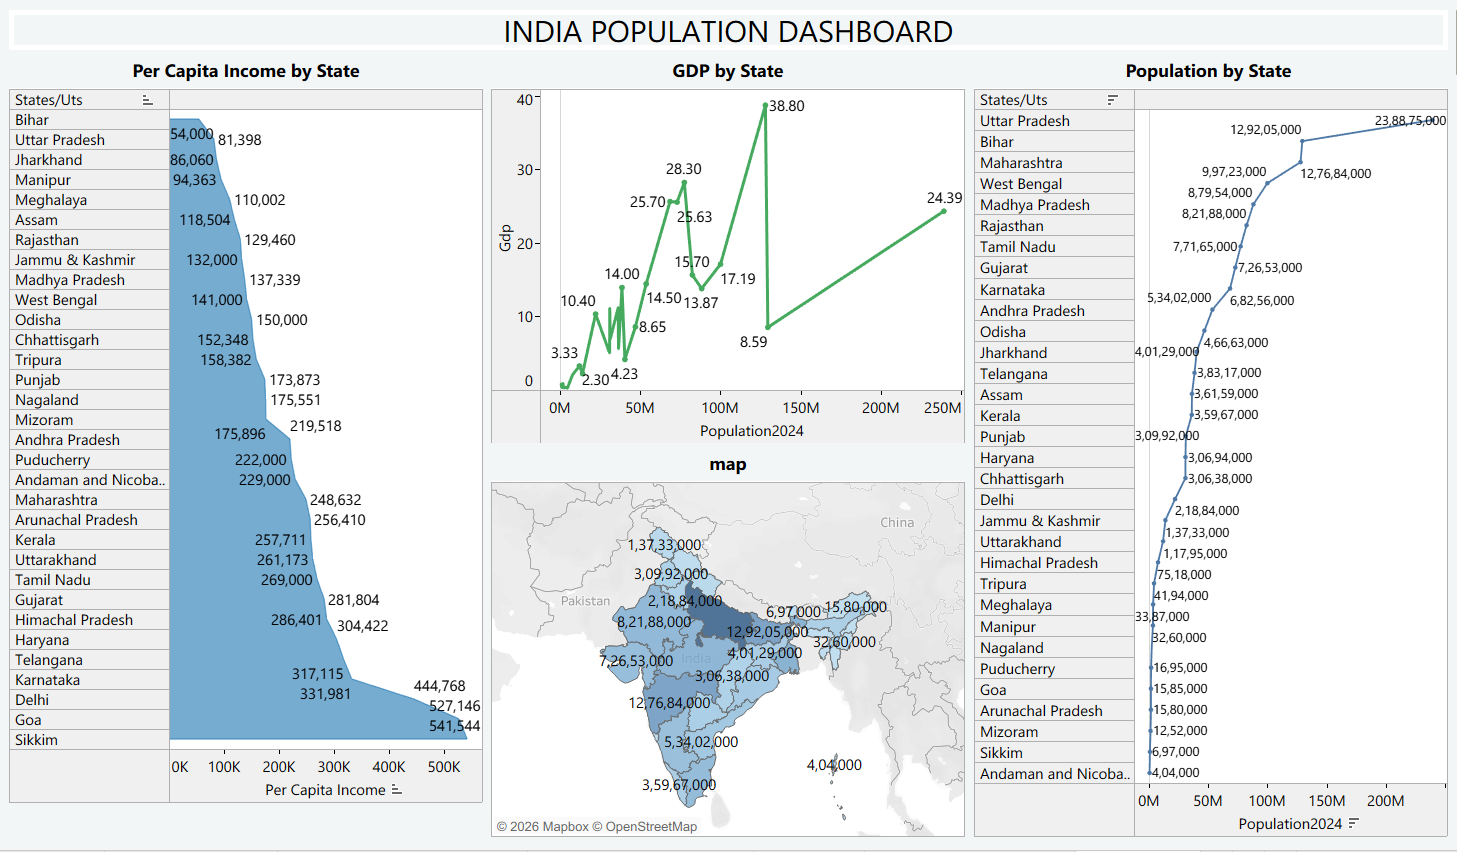

What the dashboard file says about the page in this screenshot:
{"tool":"tableau","page":{"name":"Dashboard 1","canvas":[1495,851],"ordinal":0},"visuals":[{"type":"title","box":[8,8,1447,48]},{"type":"legend","title":"map","param":"[federated.0h6qt8g0r5no4y15zrx7q1w11lw7].[sum:population2024:qk]","box":[1455,8,32,73]},{"type":"worksheet","title":"Per Capita Income by State","mark":"Area","rows":["states/uts"],"cols":["per_capita_in"],"box":[8,56,482.3,787]},{"type":"worksheet","title":"GDP by State","mark":"Line","rows":["gdp"],"cols":["population2024"],"box":[490.3,56,482.4,393.5]},{"type":"worksheet","title":"Population by State ","mark":"Line","rows":["states/uts"],"cols":["population2024"],"box":[972.7,56,482.3,787]},{"type":"worksheet","title":"map","mark":"Automatic","box":[490.3,449.5,482.4,393.5]}]}

Visuals, with their boxes in screenshot pixels (x1, y1, x2, y2), scaled from the page's 1495x851 canvas onto the 1457x852 screenshot:
title: bbox(8, 8, 1418, 56)
"map" legend: bbox(1418, 8, 1449, 81)
"Per Capita Income by State" worksheet (Area marks): bbox(8, 56, 478, 844)
"GDP by State" worksheet (Line marks): bbox(478, 56, 948, 450)
"Population by State " worksheet (Line marks): bbox(948, 56, 1418, 844)
"map" worksheet: bbox(478, 450, 948, 844)
